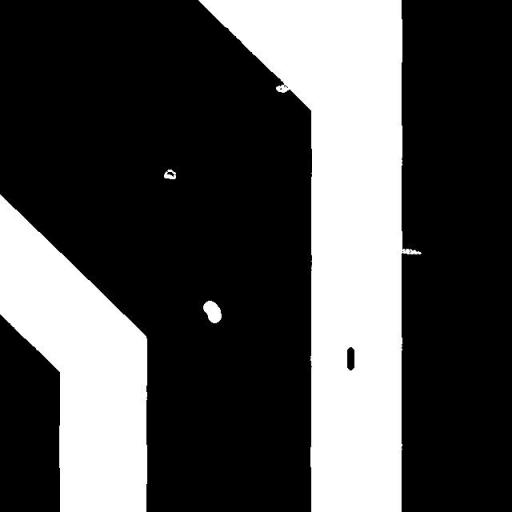copper: (339, 339, 362, 378)
mousebite: (389, 240, 429, 262), (268, 75, 298, 100)
pin-hole: (195, 293, 229, 330), (156, 162, 183, 186)
